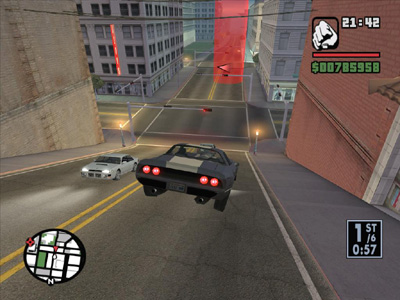car: (135, 144, 244, 209), (83, 155, 137, 180)
